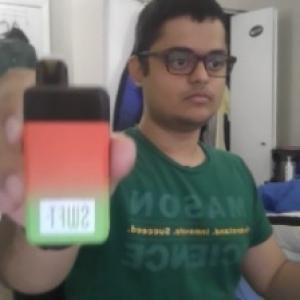Swift-E-Ciggirate: (20, 56, 116, 248)
